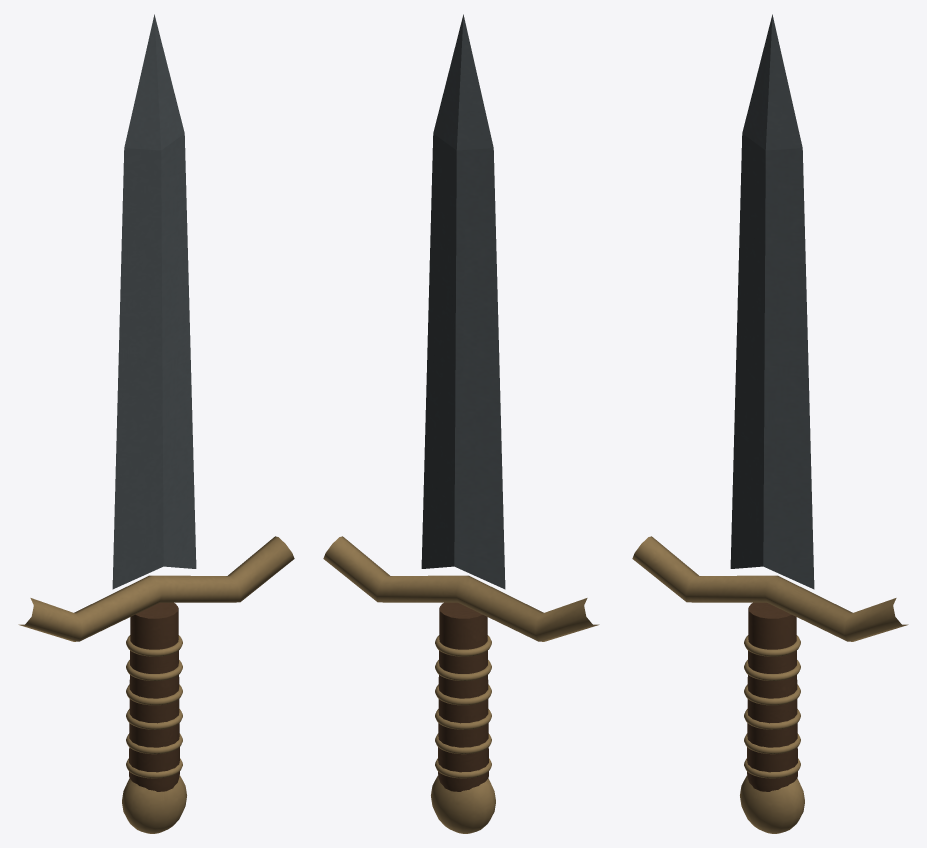
The model's file is sword.glb.
3 views of the same model, side by side, from view 1: azimuth 30°, elevation 25°; view 2: azimuth 150°, elevation 25°; view 3: azimuth 330°, elevation 25° (orthographic).
Visible parts, largest first — view 1: sword; view 2: sword; view 3: sword.
Boxes of the visible parts, x1=… form: sword: x1=18, y1=14, x2=294, y2=833; sword: x1=323, y1=14, x2=599, y2=833; sword: x1=632, y1=14, x2=908, y2=833.
Size of the model in its own units: 0.5868 by 1.68 by 0.106.
3 materials, 3 textured.
